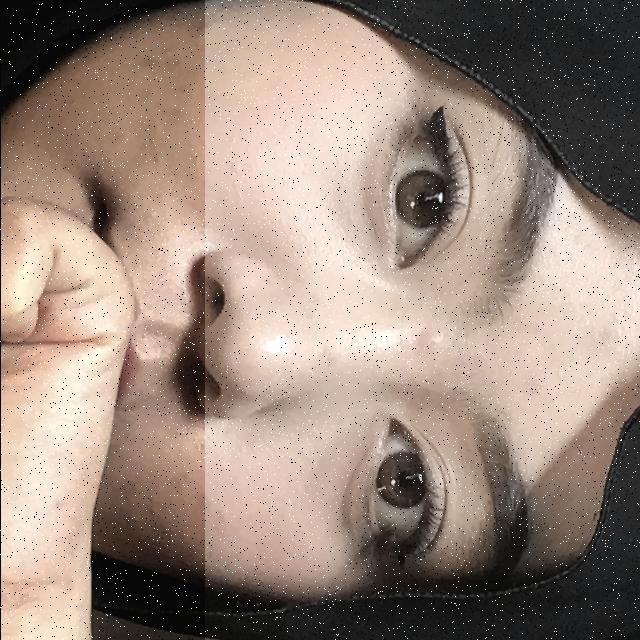sedih: (0, 0, 204, 640)
